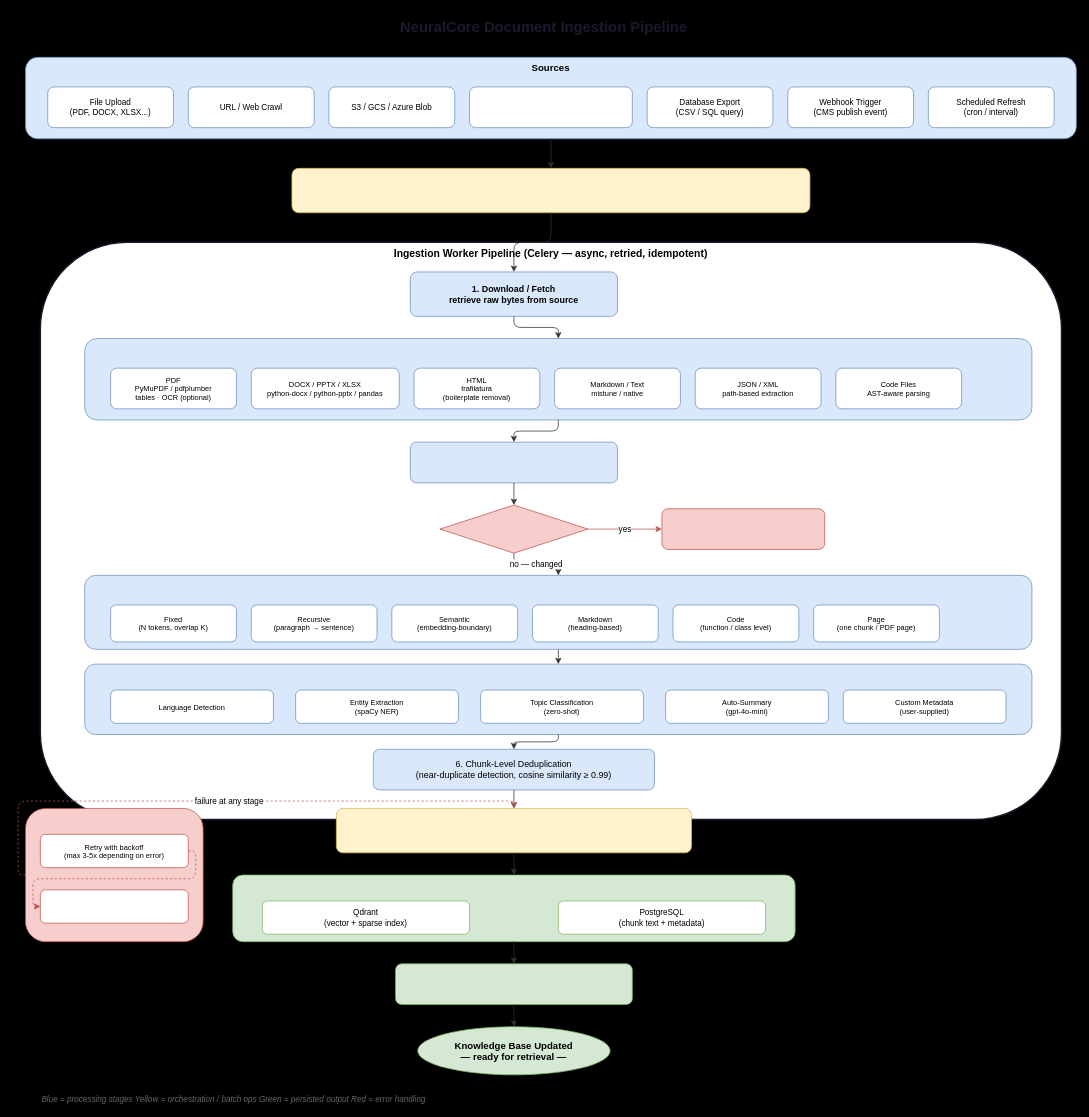
The diagram is 1089 pixels wide and 1117 high, and some of its shapes have lost their labels. The shapes that lost their labels are listed below. From the top down, each one's box as (x1, y1, x2, y2) in pixels, then its label:
(469, 86, 632, 128): App Connectors (Confluence, Notion, Drive, GitHub)
(291, 168, 810, 213): Job Manager — validate · enqueue to Celery (Redis broker) · track status
(84, 338, 1032, 420): 2. Parse & Extract
(410, 441, 618, 483): 3. Clean & Normalize whitespace · encoding · language detection
(439, 504, 588, 553): Content hash unchanged?
(661, 508, 825, 549): Skip re-processing (return existing chunks)
(84, 575, 1032, 649): 4. Chunk
(84, 663, 1032, 734): 5. Metadata Enrichment
(336, 808, 692, 853): 7. Embed batch embedding API call (dense + optional sparse BM25)
(25, 808, 203, 942): On any stage failure
(40, 889, 188, 923): Dead Letter Queue (after retries exhausted)
(232, 874, 795, 942): 8. Index
(395, 963, 632, 1005): 9. Update Job Status → completed
